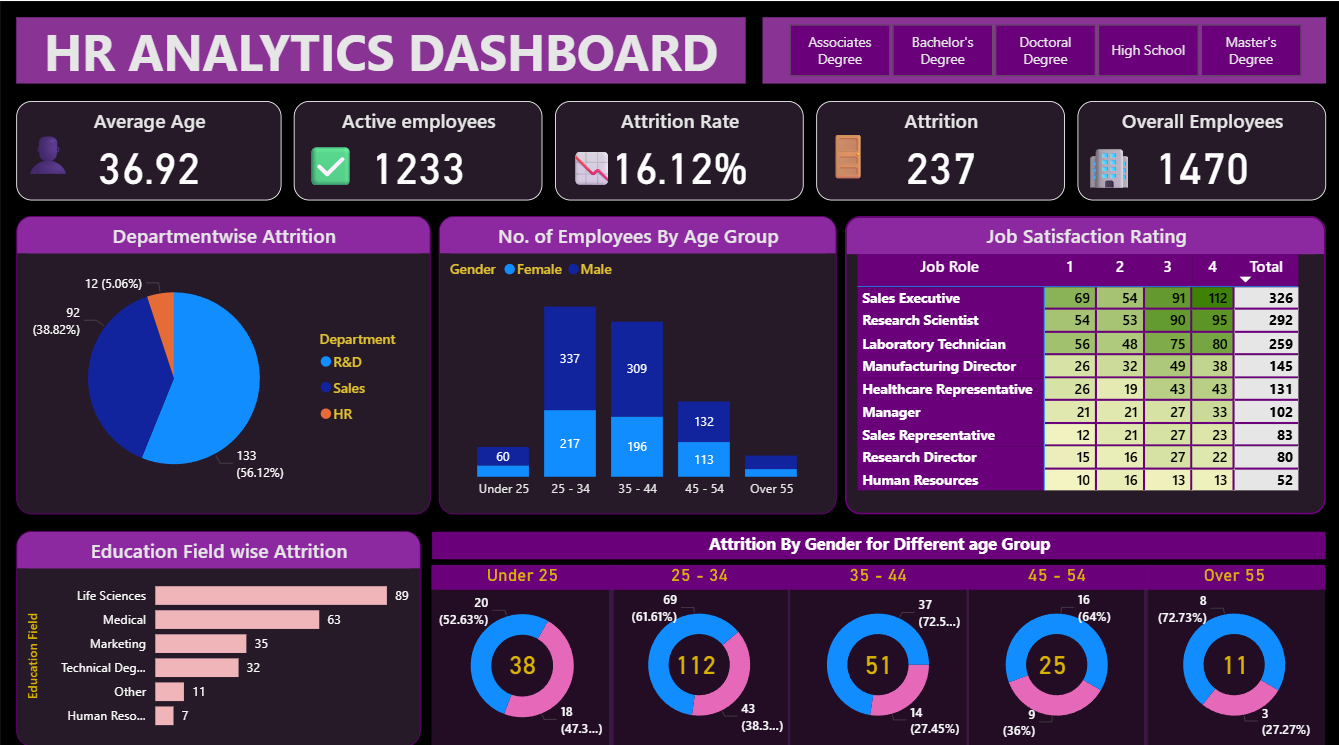

The page's visual inventory and layout, read from the dashboard file:
{"tool":"powerbi","page":{"name":"Page 1","canvas":[1300,720],"ordinal":0},"visuals":[{"type":"card","title":"Overall Employees","fields":{"Values":["Sum(HR data.Employee Count)"]},"box":[1040,96,240,96],"z":0},{"type":"card","title":"Attrition","fields":{"Values":["Sum(HR data.Attrition count)"]},"box":[788,96,240,96],"z":1000},{"type":"card","title":"Attrition Rate","fields":{"Values":["HR data.Attrition Rate"]},"box":[536,96,240,96],"z":2000},{"type":"card","title":"Active employees","fields":{"Values":["HR data.Active Employees"]},"box":[284,96,240,96],"z":3000},{"type":"card","title":"Average Age","fields":{"Values":["Avg(HR data.Age)"]},"box":[16,96,256,96],"z":4000},{"type":"pieChart","title":"Departmentwise Attrition","fields":{"Category":["HR data.Department"],"Y":["Sum(HR data.Attrition count)"]},"box":[16,208,400,288],"z":5000},{"type":"columnChart","title":"No. of Employees By Age Group","fields":{"Category":["HR data.CF_age band"],"Y":["Sum(HR data.Employee Count)"],"Series":["HR data.Gender"]},"box":[424,208,384,288],"z":6000},{"type":"pivotTable","title":"Job Satisfaction Rating","fields":{"Rows":["HR data.Job Role"],"Columns":["HR data.Job Satisfaction"],"Values":["Sum(HR data.Employee Count)"]},"box":[816,208,464,288],"z":7000},{"type":"barChart","title":"Education Field wise Attrition","fields":{"Category":["HR data.Education Field"],"Y":["Sum(HR data.Attrition count)"]},"box":[16,512,390,208],"z":8000},{"type":"donutChart","title":"Under 25","fields":{"Y":["Sum(HR data.Attrition count)"],"Series":["HR data.CF_age band"],"Category":["HR data.Gender"]},"box":[416,544,176,176],"z":9000},{"type":"textbox","title":"Attrition By Gender for Different age Group","box":[416,512,864,28],"z":10000},{"type":"donutChart","title":"Over 55","fields":{"Y":["Sum(HR data.Attrition count)"],"Series":["HR data.CF_age band"],"Category":["HR data.Gender"]},"box":[1104,544,175,174],"z":11000},{"type":"donutChart","title":"45 - 54","fields":{"Y":["Sum(HR data.Attrition count)"],"Series":["HR data.CF_age band"],"Category":["HR data.Gender"]},"box":[932,544,175,174],"z":12000},{"type":"donutChart","title":"35 - 44","fields":{"Y":["Sum(HR data.Attrition count)"],"Series":["HR data.CF_age band"],"Category":["HR data.Gender"]},"box":[760,544,175,174],"z":13000},{"type":"donutChart","title":"25 - 34","fields":{"Y":["Sum(HR data.Attrition count)"],"Series":["HR data.CF_age band"],"Category":["HR data.Gender"]},"box":[588,544,175,174],"z":14000},{"type":"card","fields":{"Values":["Sum(HR data.Attrition count)"]},"box":[464,592,80,96],"z":15000},{"type":"card","fields":{"Values":["Sum(HR data.Attrition count)"]},"box":[640,592,64,96],"z":16000},{"type":"card","fields":{"Values":["Sum(HR data.Attrition count)"]},"box":[816,592,64,96],"z":17000},{"type":"card","fields":{"Values":["Sum(HR data.Attrition count)"]},"box":[976,592,80,96],"z":18000},{"type":"card","fields":{"Values":["Sum(HR data.Attrition count)"]},"box":[1152,592,80,96],"z":19000},{"type":"textbox","title":"HR ANALYTICS DASHBOARD","box":[16,16,704,64],"z":20000},{"type":"slicer","fields":{"Values":["HR data.Education"]},"box":[736,16,544,64],"z":21000},{"type":"textbox","box":[288,128,80,80],"z":22000},{"type":"textbox","box":[16,96,96,112],"z":23000},{"type":"textbox","box":[544,128,96,80],"z":24000},{"type":"textbox","box":[784,96,96,96],"z":25000},{"type":"textbox","box":[1040,112,96,96],"z":26000}]}

Visuals, with their boxes in screenshot pixels (x1, y1, x2, y2), scaled from the page's 1300x720 canvas onto the 1339x745 screenshot:
"Overall Employees" card: 1071/99/1318/199
"Attrition" card: 812/99/1059/199
"Attrition Rate" card: 552/99/799/199
"Active employees" card: 293/99/540/199
"Average Age" card: 16/99/280/199
"Departmentwise Attrition" pieChart: 16/215/428/513
"No. of Employees By Age Group" columnChart: 437/215/832/513
"Job Satisfaction Rating" pivotTable: 840/215/1318/513
"Education Field wise Attrition" barChart: 16/530/418/744
"Under 25" donutChart: 428/563/610/744
"Attrition By Gender for Different age Group" textbox: 428/530/1318/559
"Over 55" donutChart: 1137/563/1317/743
"45 - 54" donutChart: 960/563/1140/743
"35 - 44" donutChart: 783/563/963/743
"25 - 34" donutChart: 606/563/786/743
card - Sum(HR data.Attrition count): 478/613/560/712
card - Sum(HR data.Attrition count): 659/613/725/712
card - Sum(HR data.Attrition count): 840/613/906/712
card - Sum(HR data.Attrition count): 1005/613/1088/712
card - Sum(HR data.Attrition count): 1187/613/1269/712
"HR ANALYTICS DASHBOARD" textbox: 16/17/742/83
slicer - HR data.Education: 758/17/1318/83
textbox: 297/132/379/215
textbox: 16/99/115/215
textbox: 560/132/659/215
textbox: 808/99/906/199
textbox: 1071/116/1170/215
